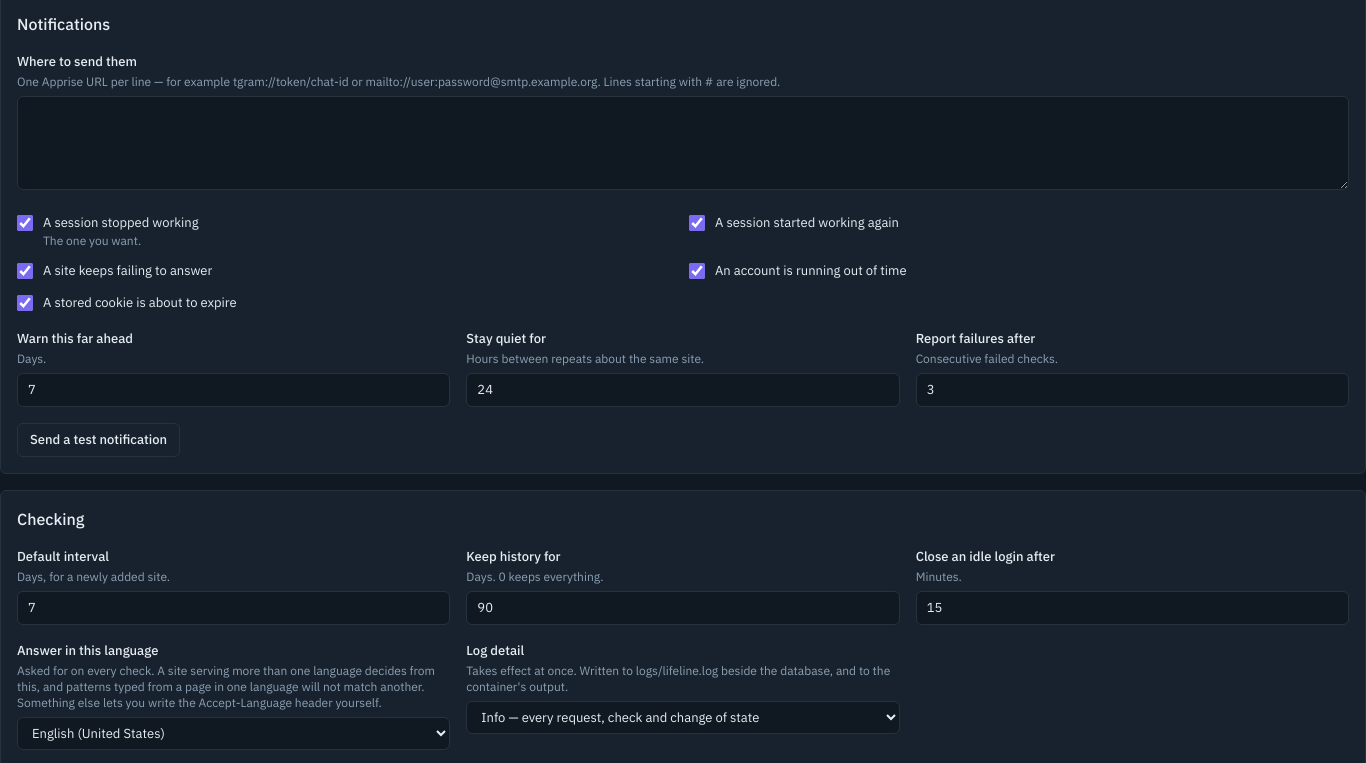
Settings › sends a test notification and reports what happened
Expected: the text box labelled "Where to send them" is shown, [17,96,1349,190]
Click the button "Send a test notification" at coordinates (99, 440), box [17,423,180,457]
(page scrolled)
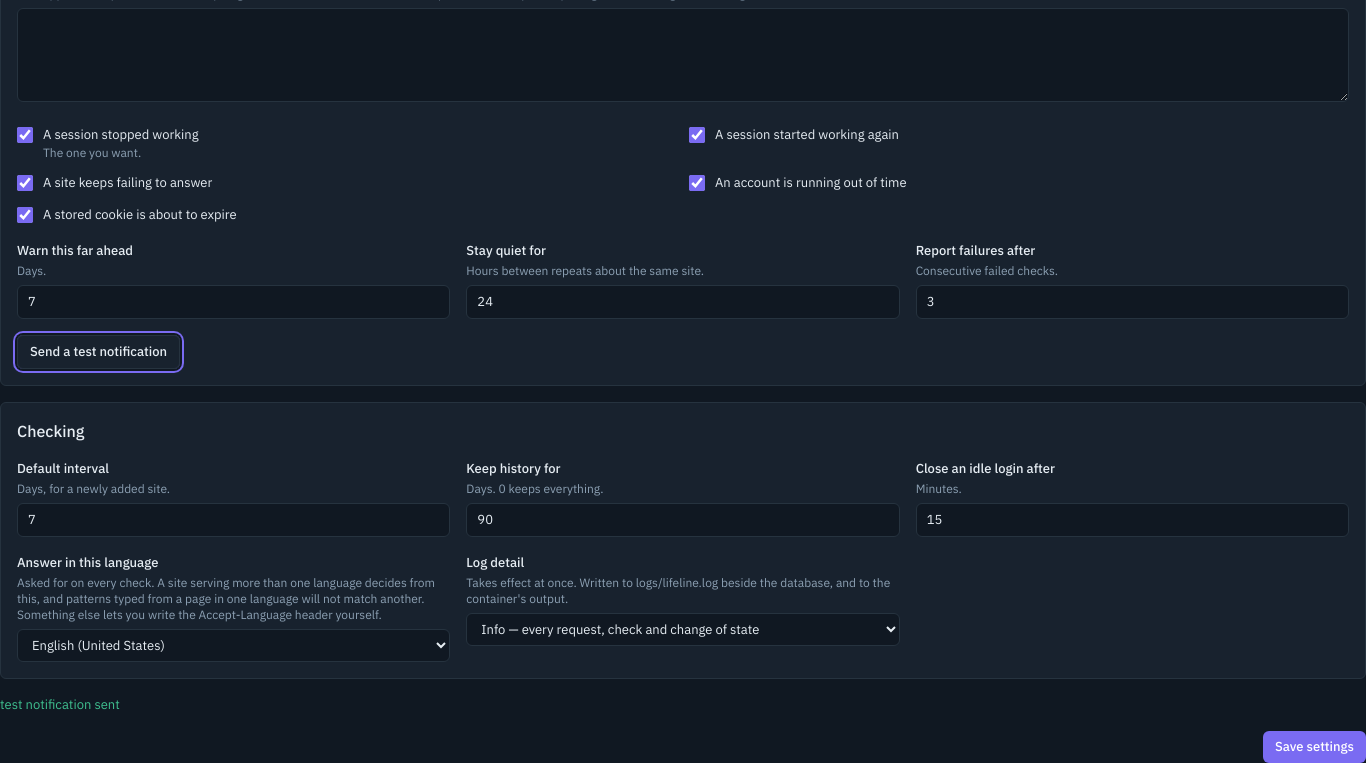
Expected: the message reads "test notification sent", [0,696,120,713]
